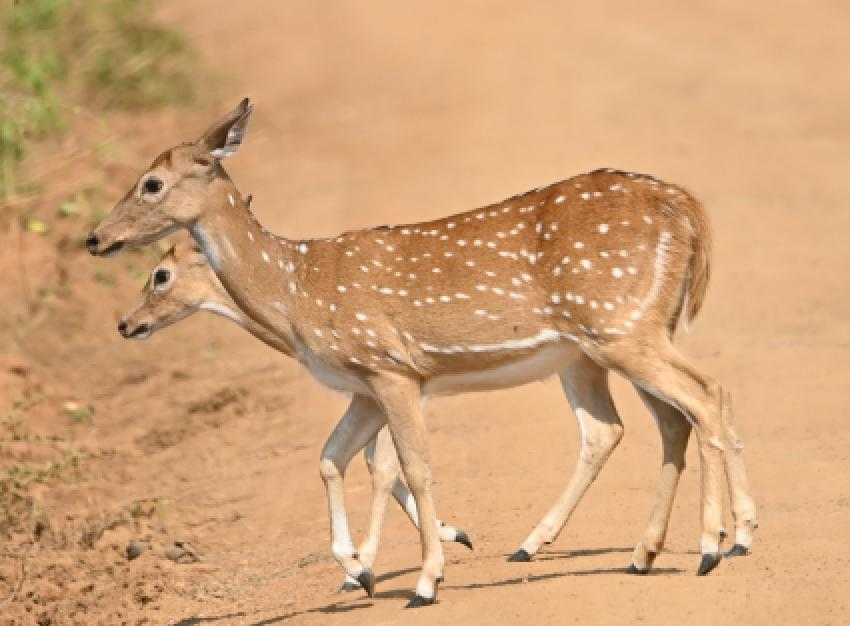Deer: (86, 98, 727, 598), (118, 240, 292, 353)
